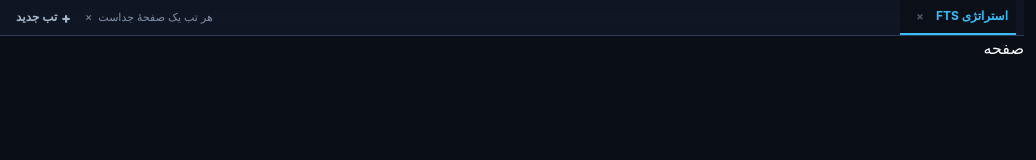
Test case: تب‌های فضای کاری (الگویِ ARIA APG باِ تطبیقِ RTL) › چند‌تبی‌بودن از نگاهِ اول پیداست: برچسبِ «تب جدید» و راهنمای یک‌باره
Expected: the element with test id "ws-tab-hint" shows "هر تب یک صفحهٔ جداست", x1=98 y1=10 x2=213 y2=24
Note: ساختِ دومین تب، درس را داده است ⇒ راهنما برای همیشه کنار می‌رود
Click the button with test id "ws-tab-new". click: click(44, 18)
box: x1=8 y1=6 x2=79 y2=30
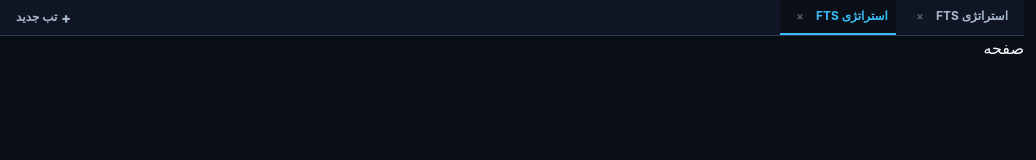
Now the element with test id "ws-tab-hint" is gone
